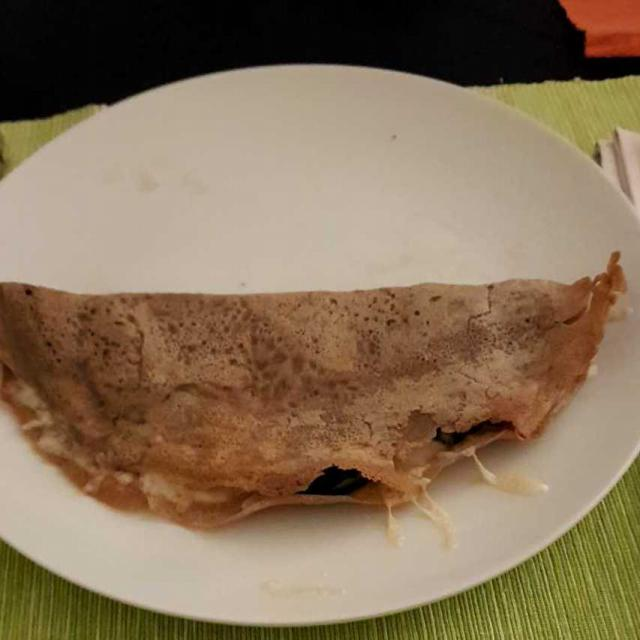crepe-plain: (9, 275, 622, 522)
